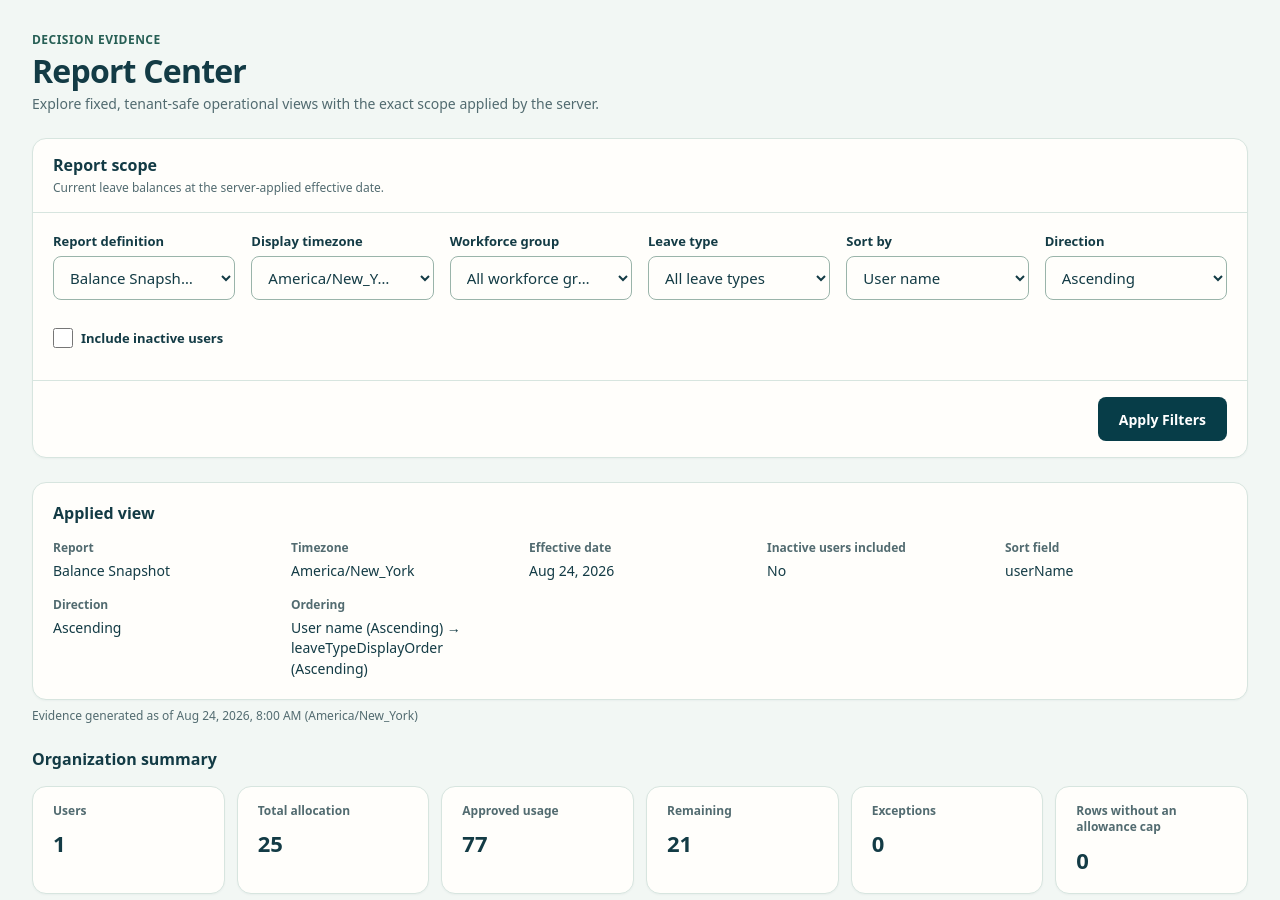
Test: ReportCenterPage › [P0] blocks Apply and explains the gap when a required date range is incomplete
Step 1. Select "Leave Usage" in the dropdown labelled "Report definition" → point(144, 278), box [53,256,235,300]
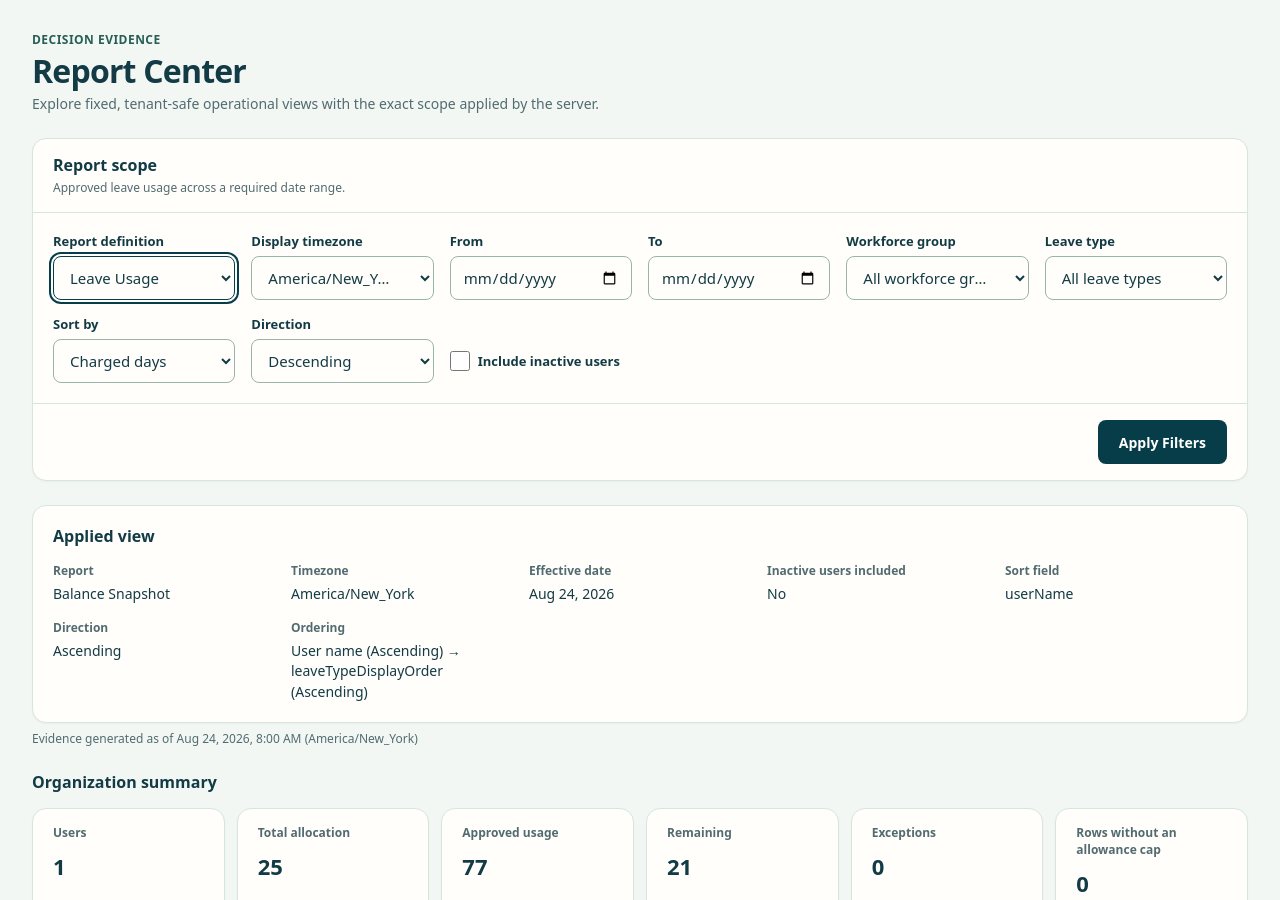
Step 2. Type "2026-08-01" into the date field labelled "From" → point(541, 278), box [450,256,632,300]
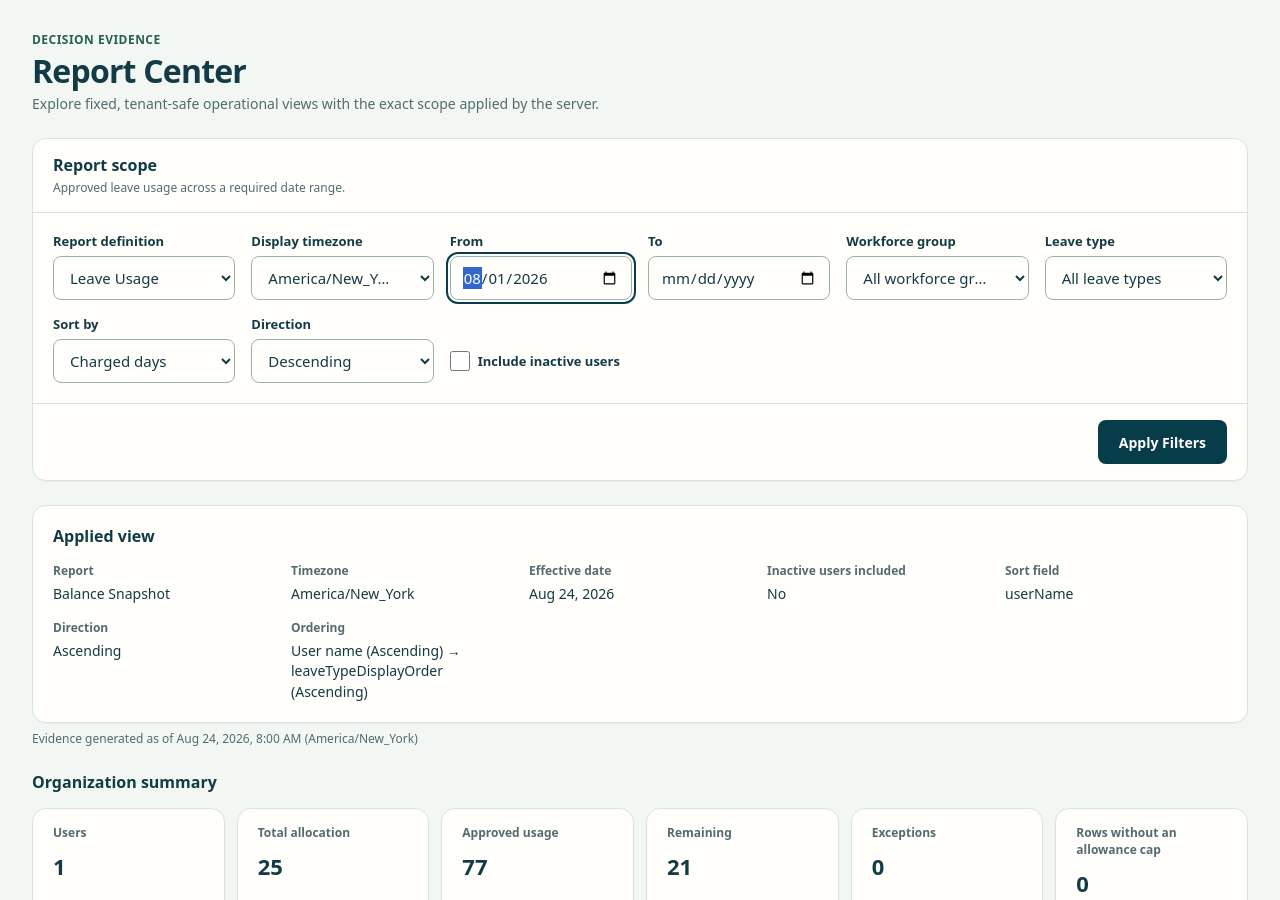
Step 3. Click the button "Apply Filters" → point(1162, 442), box [1098,420,1227,464]
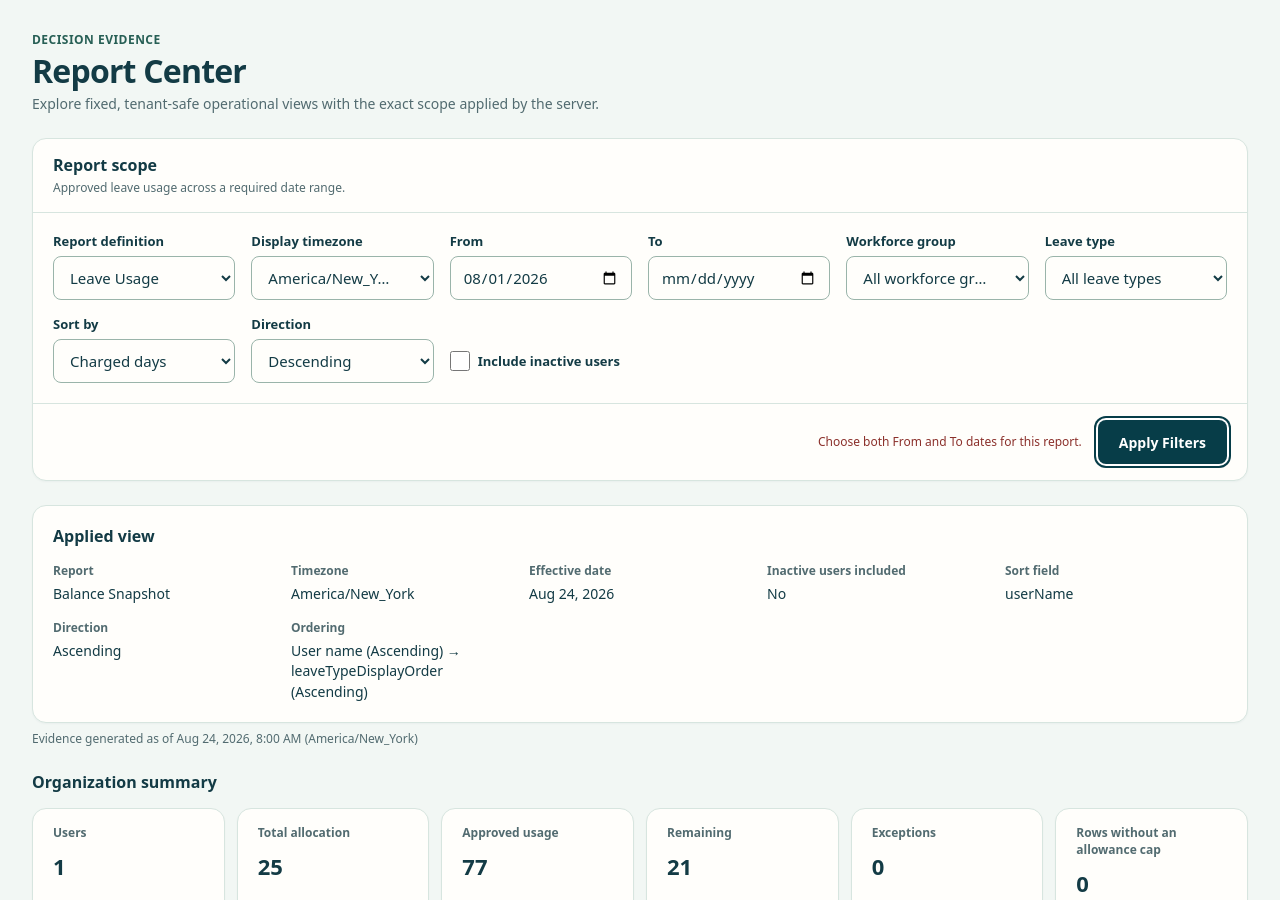
Check: the text "Choose both From and To dates for this report." is shown, box [818,433,1082,451]
